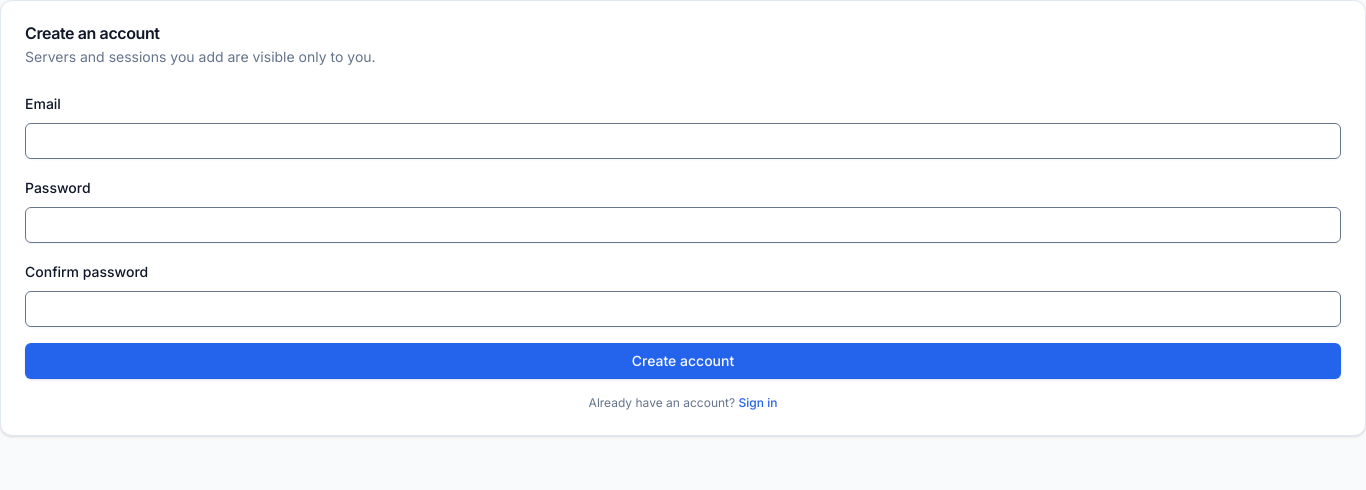
Test case: RegisterForm › shows how long to wait after too many sign-ups from this address
Type "me@example.com" into the field labelled "Email".
click(683, 141); type("me@example.com")  # box top-left (25, 123), bottom-right (1341, 159)
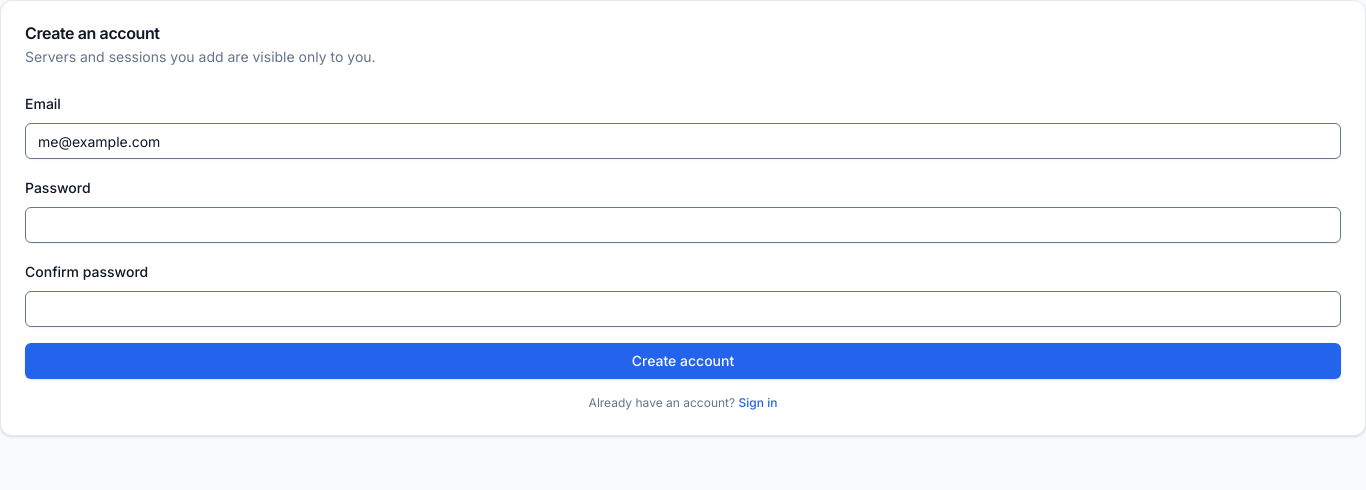
Type "s3cret-pass-123" into the password field labelled "Password".
click(683, 225); type("s3cret-pass-123")  # box top-left (25, 207), bottom-right (1341, 243)
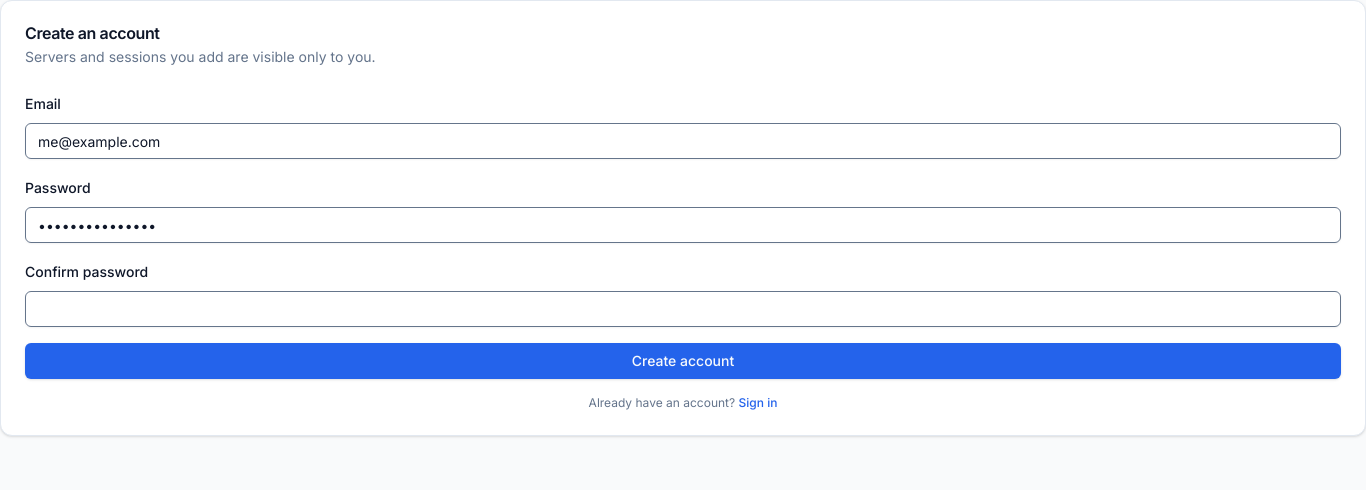
Type "s3cret-pass-123" into the password field labelled "Confirm password".
click(683, 309); type("s3cret-pass-123")  # box top-left (25, 291), bottom-right (1341, 327)
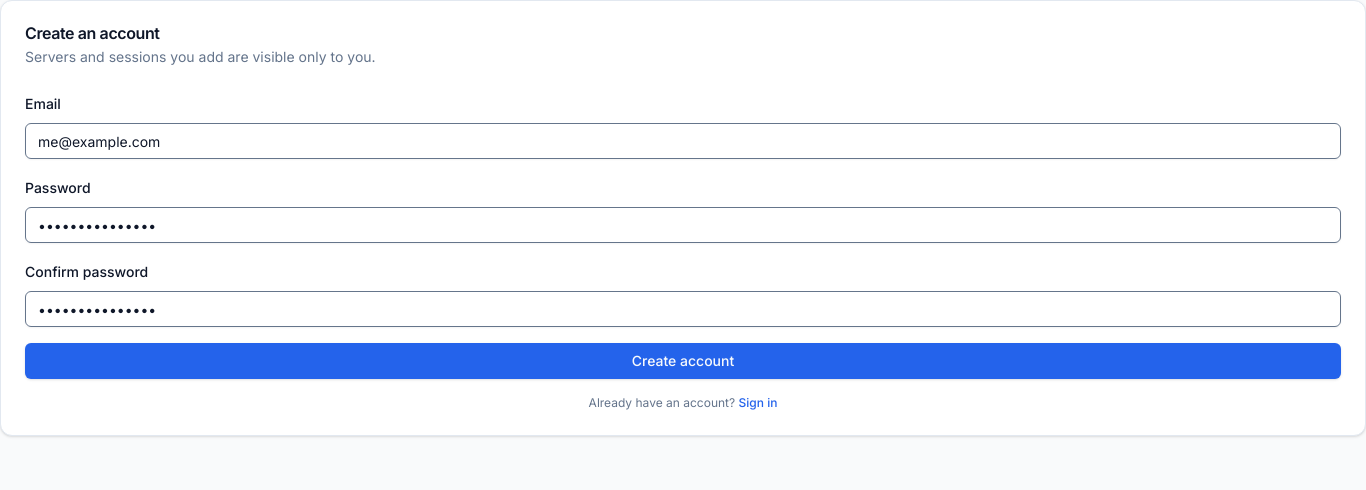
Click the button "Create account".
click(683, 361)  # box top-left (25, 343), bottom-right (1341, 379)
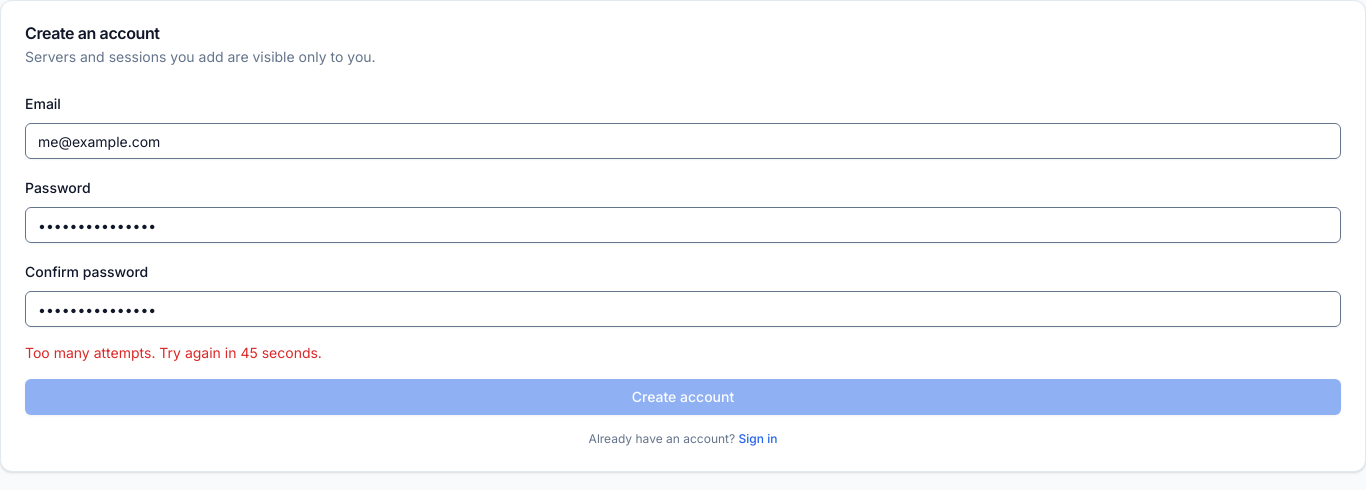
Result: the message reads "Too many attempts. Try again in 45 seconds." at top-left (25, 344), bottom-right (322, 361)
Result: the button "Create account" is disabled at top-left (25, 379), bottom-right (1341, 415)
